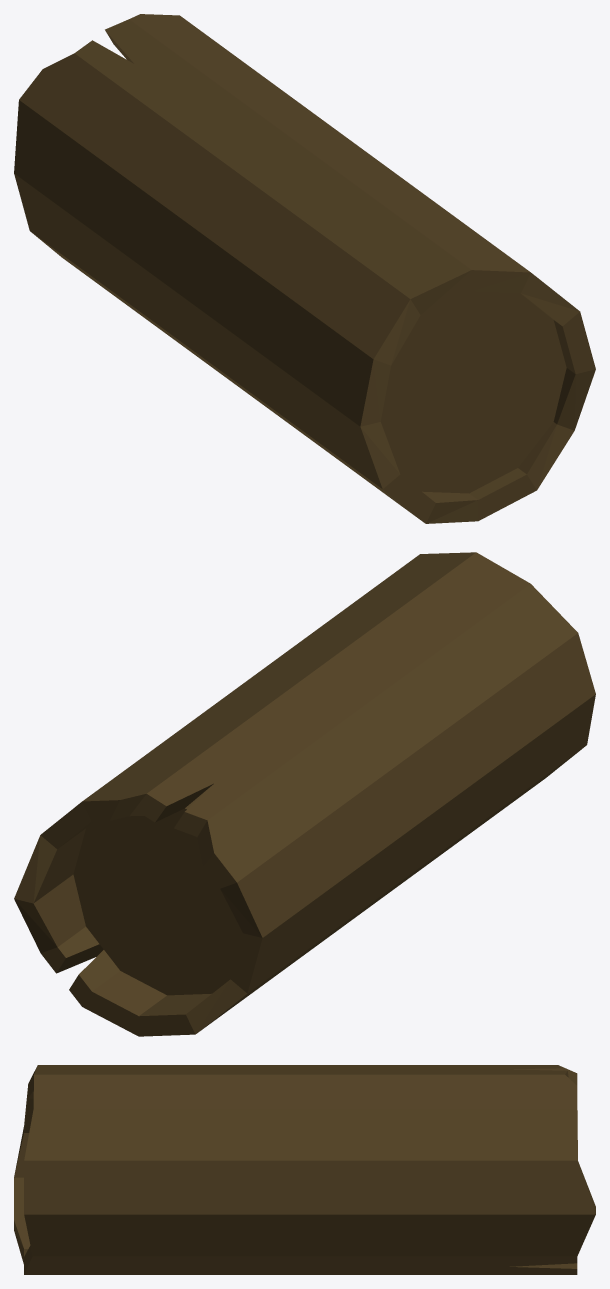
File: DarkWoodDecorationSmallTreeTrunk1.fbx
3 views of the same model, one above another, from view 1: azimuth 30°, elevation 25°; view 2: azimuth 150°, elevation 25°; view 3: azimuth 270°, elevation 25° (orthographic). The views are drawn at different scales.
Parts seen in each view (by area): view 1: DarkWoodDecorationTreeTrunkSmall1; view 2: DarkWoodDecorationTreeTrunkSmall1; view 3: DarkWoodDecorationTreeTrunkSmall1.
Boxes of the visible parts, x1,y1,x2,y2 form: DarkWoodDecorationTreeTrunkSmall1: (14,14,595,523); DarkWoodDecorationTreeTrunkSmall1: (14,552,595,1036); DarkWoodDecorationTreeTrunkSmall1: (14,1065,595,1274).
Size of the model in its own units: 120 by 120 by 331.
